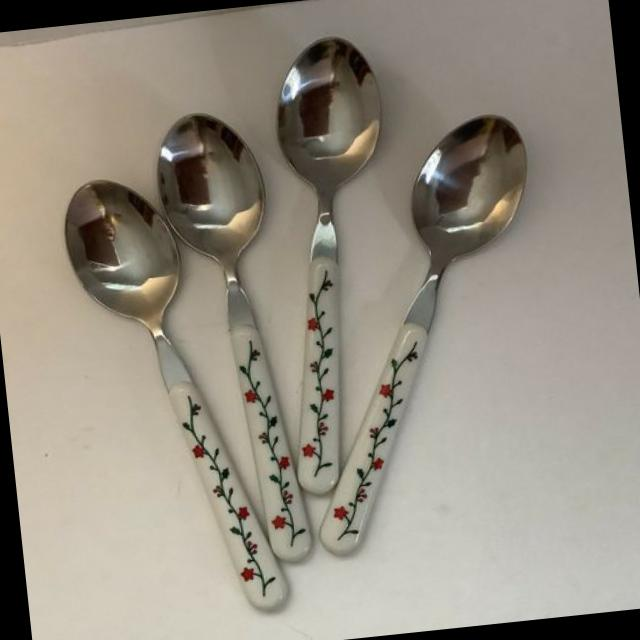spoon: (44, 161, 305, 625), (301, 107, 547, 572), (246, 27, 434, 504), (139, 100, 321, 573)
